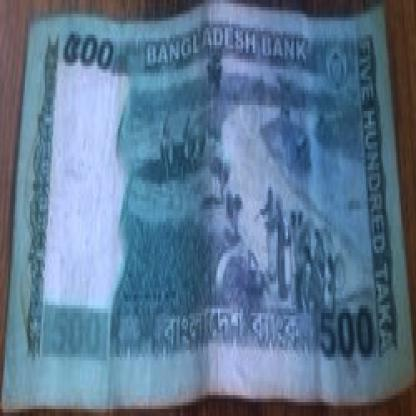500 taka: (42, 21, 133, 80)
currency: (3, 4, 411, 409)
